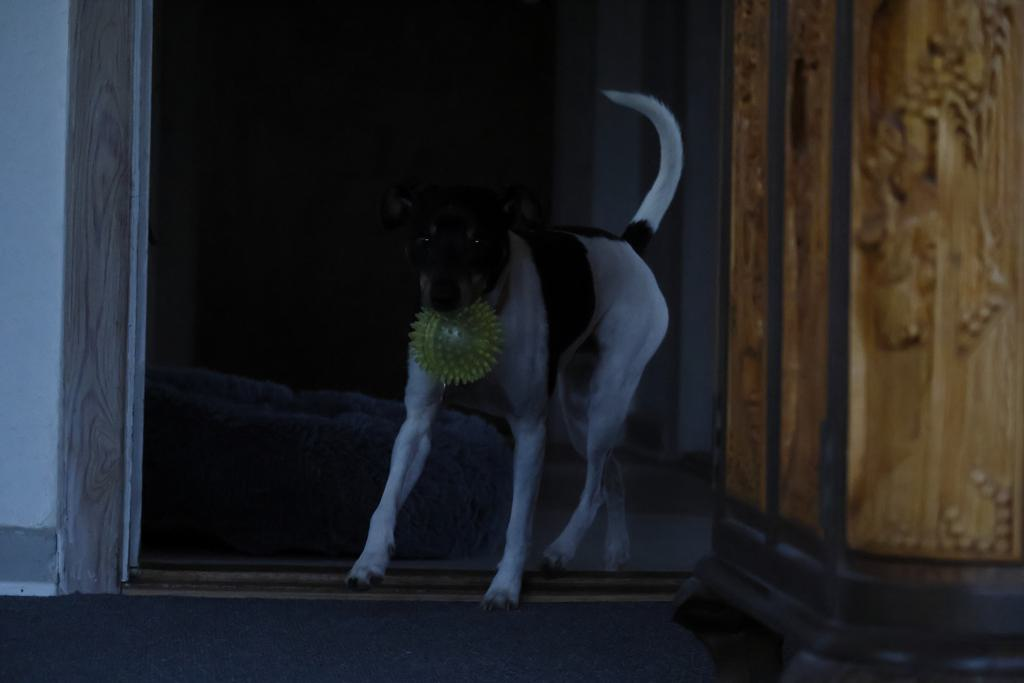Dog: (346, 76, 696, 615)
